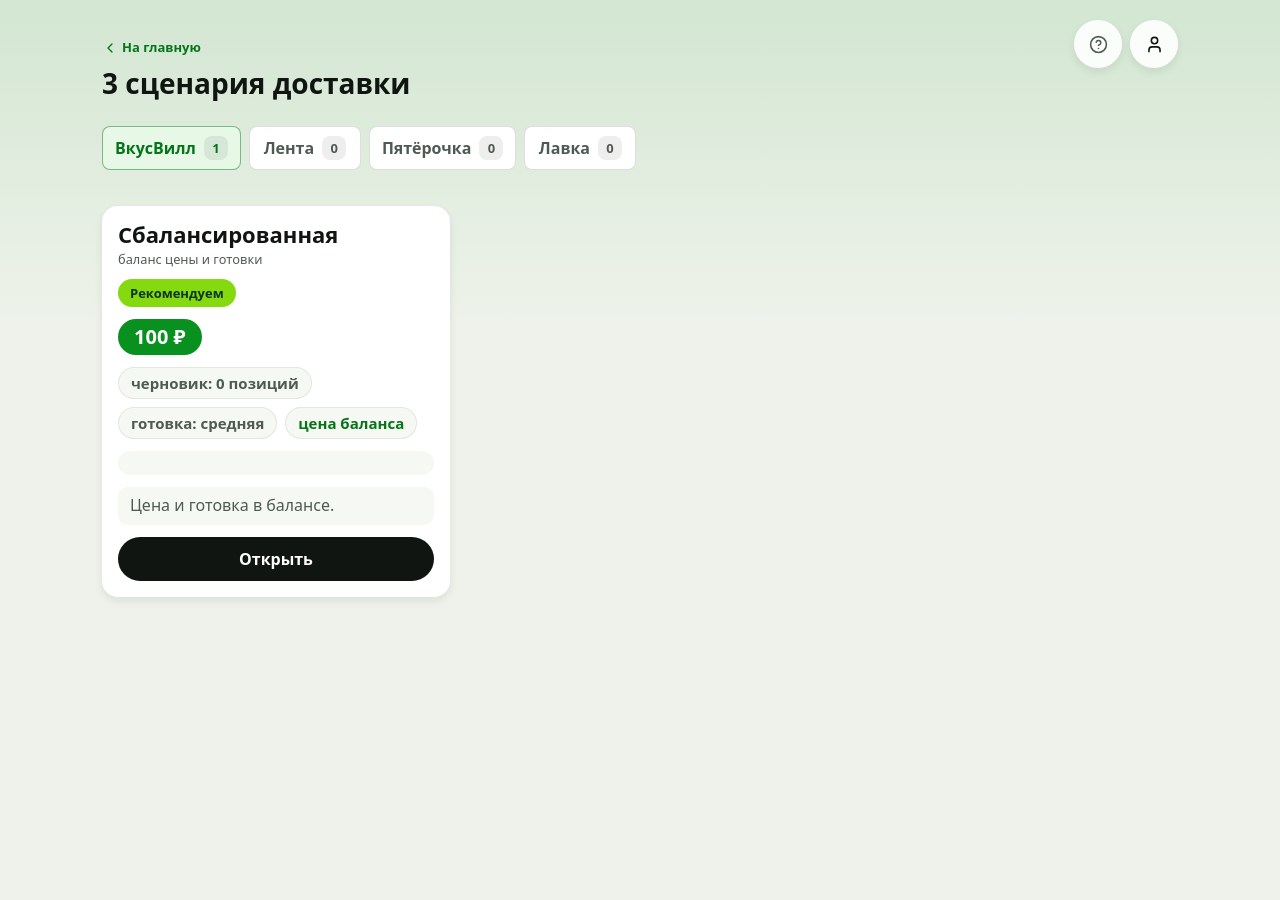
Scenario: App first-run onboarding › starts a new search from results without redirecting back to the old basket
Click the link "На главную": click(151, 47) left=102, top=38, right=201, bottom=56
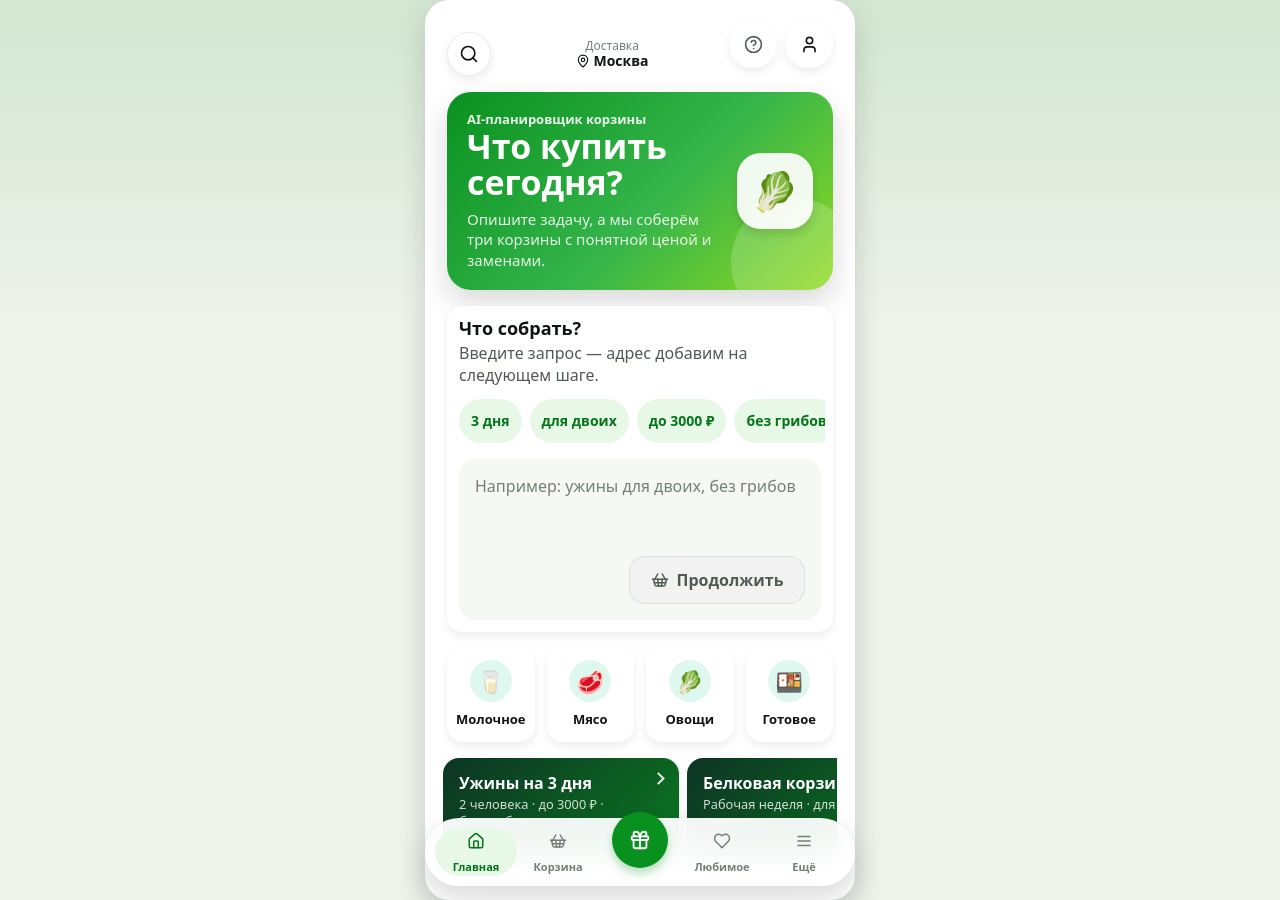
Expected: the text box labelled "Что собрать?" is shown, left=459, top=459, right=821, bottom=620
